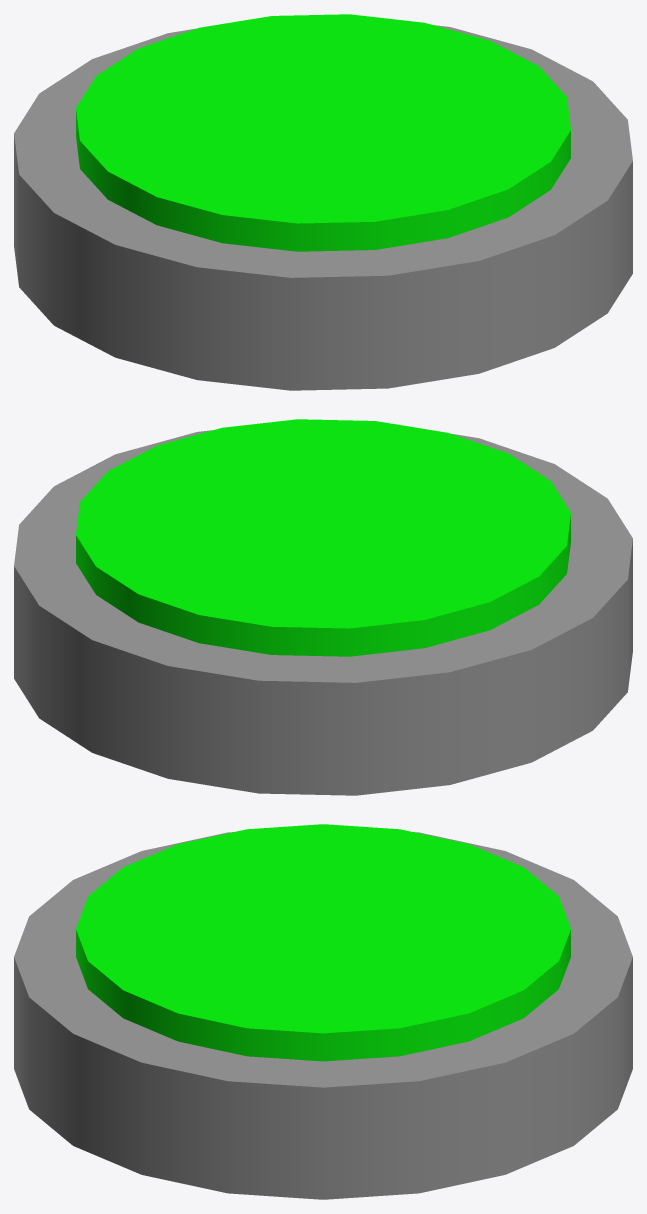
The model's file is CharaSpawner.fbx.
The picture shows the model from 3 angles, top to bottom: view 1: azimuth 30°, elevation 25°; view 2: azimuth 150°, elevation 25°; view 3: azimuth 270°, elevation 25°; orthographic projection.
Visible parts, largest first — view 1: Cylinder, Cylinder__1_; view 2: Cylinder, Cylinder__1_; view 3: Cylinder, Cylinder__1_.
Part boxes in pixels (left/top/right/bottom): Cylinder: left=14, top=25, right=632, bottom=390; Cylinder__1_: left=76, top=14, right=570, bottom=251; Cylinder: left=14, top=430, right=632, bottom=795; Cylinder__1_: left=76, top=419, right=570, bottom=656; Cylinder: left=14, top=832, right=632, bottom=1199; Cylinder__1_: left=76, top=824, right=570, bottom=1061.
Size of the model in its own units: 100 by 25 by 100.
